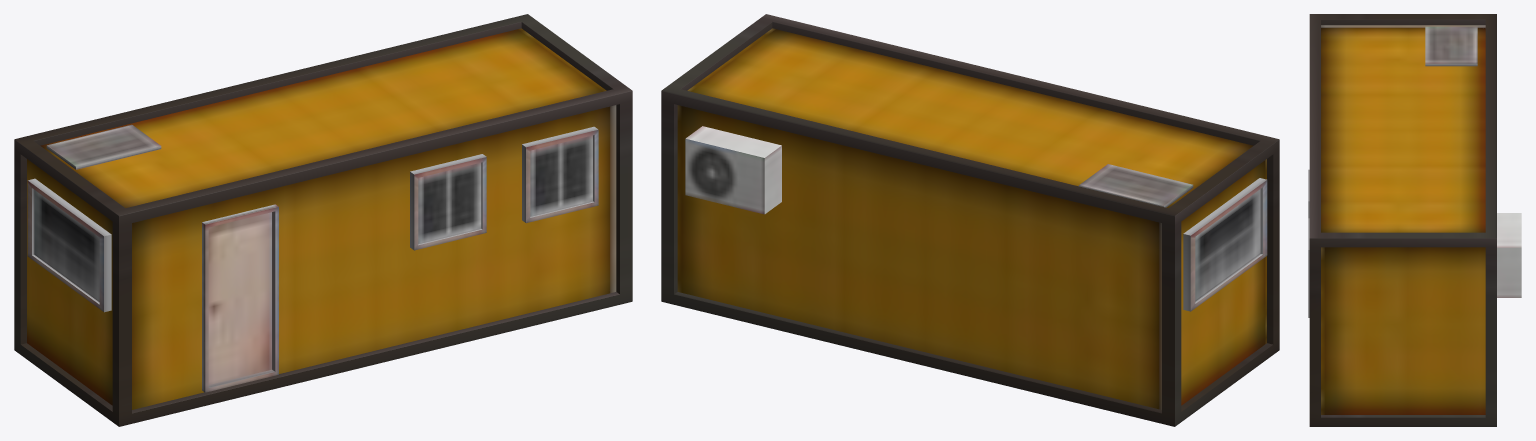
The model's file is building-rental-office.glb.
The picture shows the model from 3 angles, left to right: view 1: azimuth 30°, elevation 25°; view 2: azimuth 150°, elevation 25°; view 3: azimuth 270°, elevation 25°; orthographic projection. The views are drawn at different scales.
Parts seen in each view (by area): view 1: Yellow Cabin Container; view 2: Yellow Cabin Container; view 3: Yellow Cabin Container.
Boxes of the visible parts, left/top/right/bottom form: Yellow Cabin Container: left=14, top=14, right=632, bottom=426; Yellow Cabin Container: left=661, top=14, right=1279, bottom=426; Yellow Cabin Container: left=1308, top=14, right=1521, bottom=426.
Bounding box in the file's own units: 6 × 2.35 × 2.4.
Materials: 1 (1 with a texture image).
